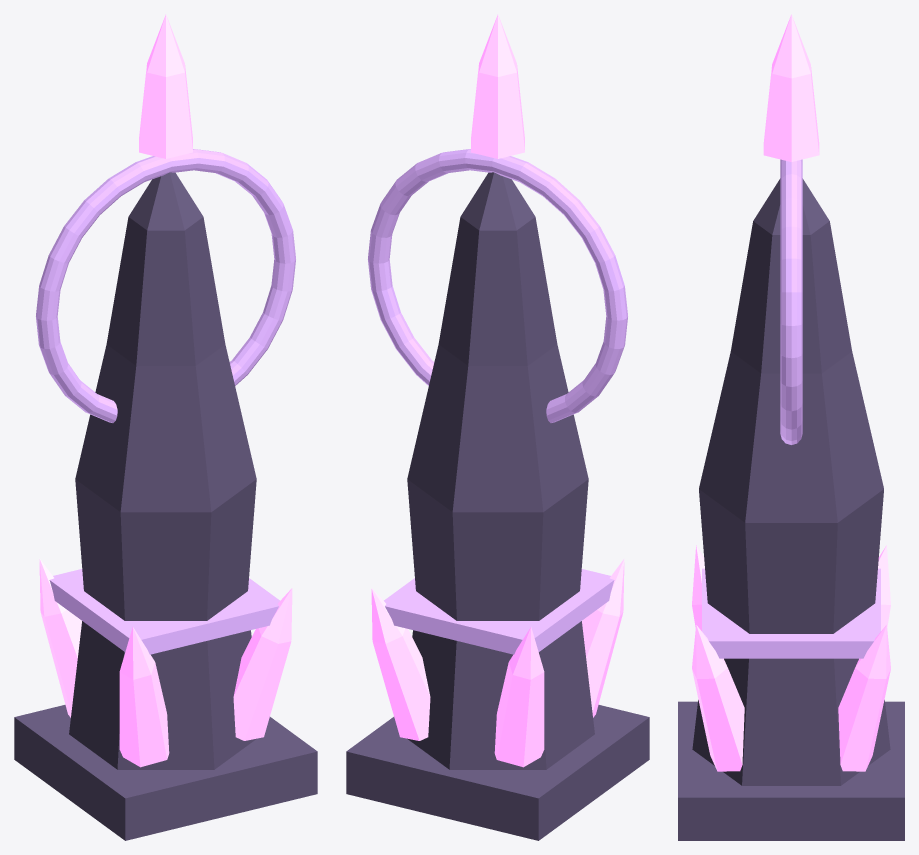
File: shadow_monolith.glb
3 views of the same model, side by side, from view 1: azimuth 30°, elevation 25°; view 2: azimuth 150°, elevation 25°; view 3: azimuth 270°, elevation 25° (orthographic). The views are drawn at different scales.
Visible parts, largest first — view 1: ShadowObsidianSpire, ShadowEclipseHalo, ShadowVoidCrystals; view 2: ShadowObsidianSpire, ShadowEclipseHalo, ShadowVoidCrystals; view 3: ShadowObsidianSpire, ShadowVoidCrystals, ShadowEclipseHalo.
Boxes of the visible parts, <box> form: ShadowObsidianSpire: <box>14,172,317,840</box>; ShadowEclipseHalo: <box>36,149,295,654</box>; ShadowVoidCrystals: <box>39,14,292,767</box>; ShadowObsidianSpire: <box>346,172,649,840</box>; ShadowEclipseHalo: <box>368,149,627,654</box>; ShadowVoidCrystals: <box>371,14,624,767</box>; ShadowObsidianSpire: <box>678,178,904,840</box>; ShadowVoidCrystals: <box>692,14,890,771</box>; ShadowEclipseHalo: <box>702,159,880,658</box>.
Bounding box in the file's own units: 1.9 × 5.38 × 1.42.
